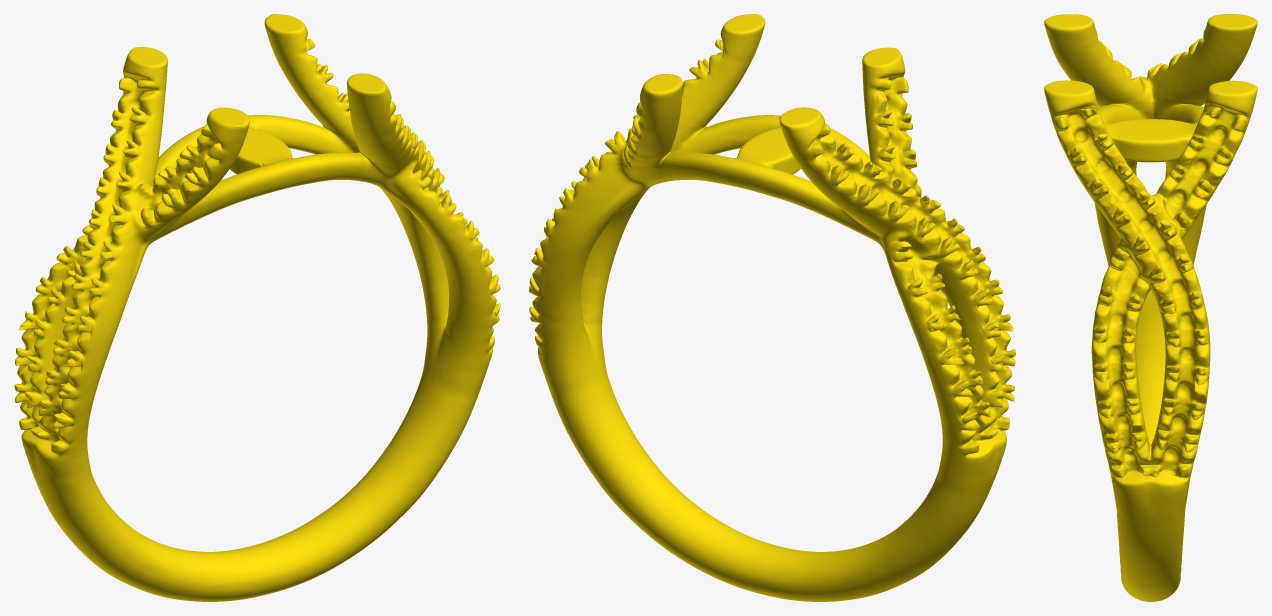
File: Shank_Twist_French Pave_B_Single Halo_Band.glb
3 renders of one model, left to right at view 1: azimuth 30°, elevation 25°; view 2: azimuth 150°, elevation 25°; view 3: azimuth 270°, elevation 25°, orthographic.
Bounding box in the file's own units: 0.0213 × 0.0237 × 0.0088.
